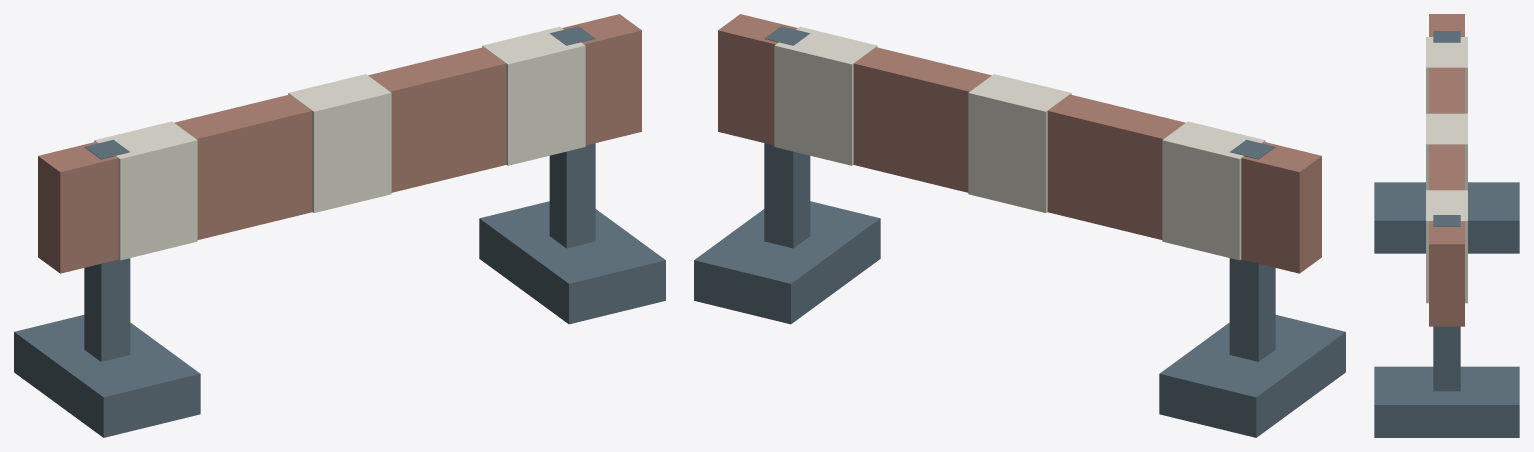
File: voxel-city-districts-road-barrier-5990e1d7__24849.glb
The picture shows the model from 3 angles, left to right: view 1: azimuth 30°, elevation 25°; view 2: azimuth 150°, elevation 25°; view 3: azimuth 270°, elevation 25°; orthographic projection. The views are drawn at different scales.
Parts seen in each view (by area): view 1: road-barrier-roof, road-barrier-dark, road-barrier-concrete; view 2: road-barrier-roof, road-barrier-dark, road-barrier-concrete; view 3: road-barrier-dark, road-barrier-roof, road-barrier-concrete.
Boxes of the visible parts, x1=… form: road-barrier-roof: x1=38, y1=14, x2=641, y2=273; road-barrier-dark: x1=14, y1=26, x2=665, y2=437; road-barrier-concrete: x1=94, y1=26, x2=585, y2=260; road-barrier-roof: x1=718, y1=14, x2=1321, y2=273; road-barrier-dark: x1=694, y1=26, x2=1345, y2=437; road-barrier-concrete: x1=774, y1=26, x2=1265, y2=260; road-barrier-dark: x1=1374, y1=31, x2=1519, y2=437; road-barrier-roof: x1=1429, y1=14, x2=1464, y2=326; road-barrier-concrete: x1=1426, y1=37, x2=1467, y2=303.
Bounding box in the file's own units: 3 × 1.2 × 0.8002.
